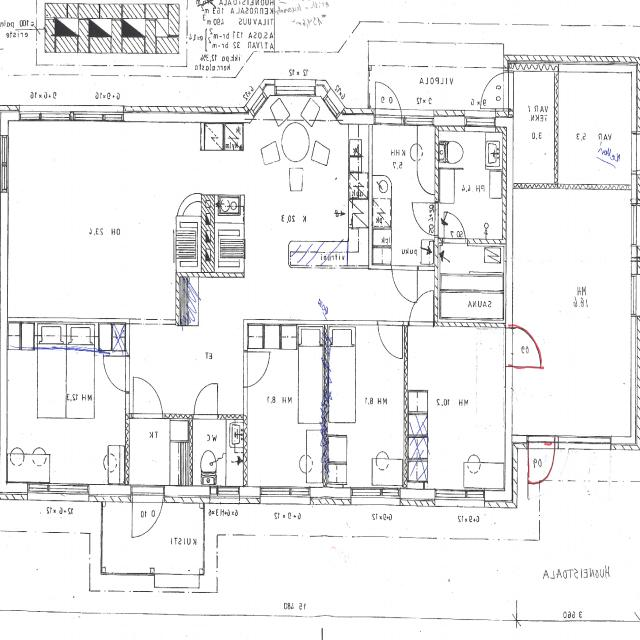door: (132, 484, 163, 544), (133, 373, 163, 420), (528, 435, 555, 487), (505, 328, 541, 366), (376, 74, 400, 124), (479, 74, 514, 108), (392, 264, 418, 305), (409, 286, 434, 326), (101, 356, 129, 391), (378, 320, 402, 360), (245, 352, 273, 386), (195, 381, 218, 420), (412, 202, 439, 235), (444, 210, 466, 244), (631, 134, 640, 169)
